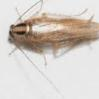cockroach: (8, 16, 96, 52)
